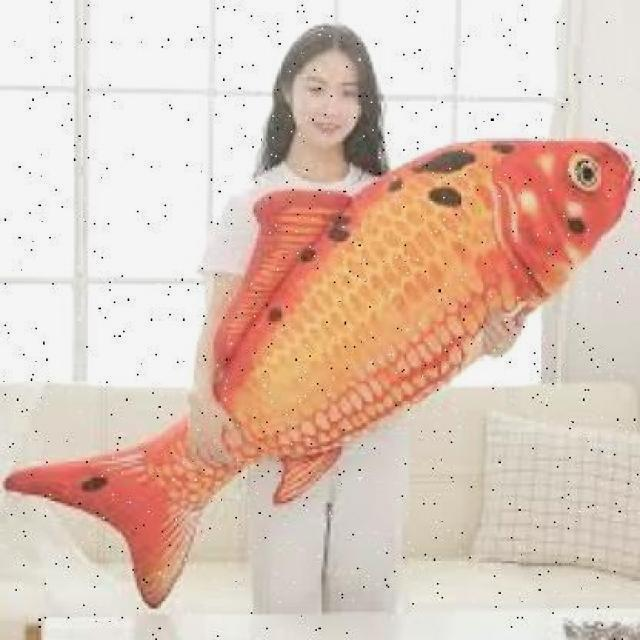ikan-mas: (11, 121, 638, 564)
